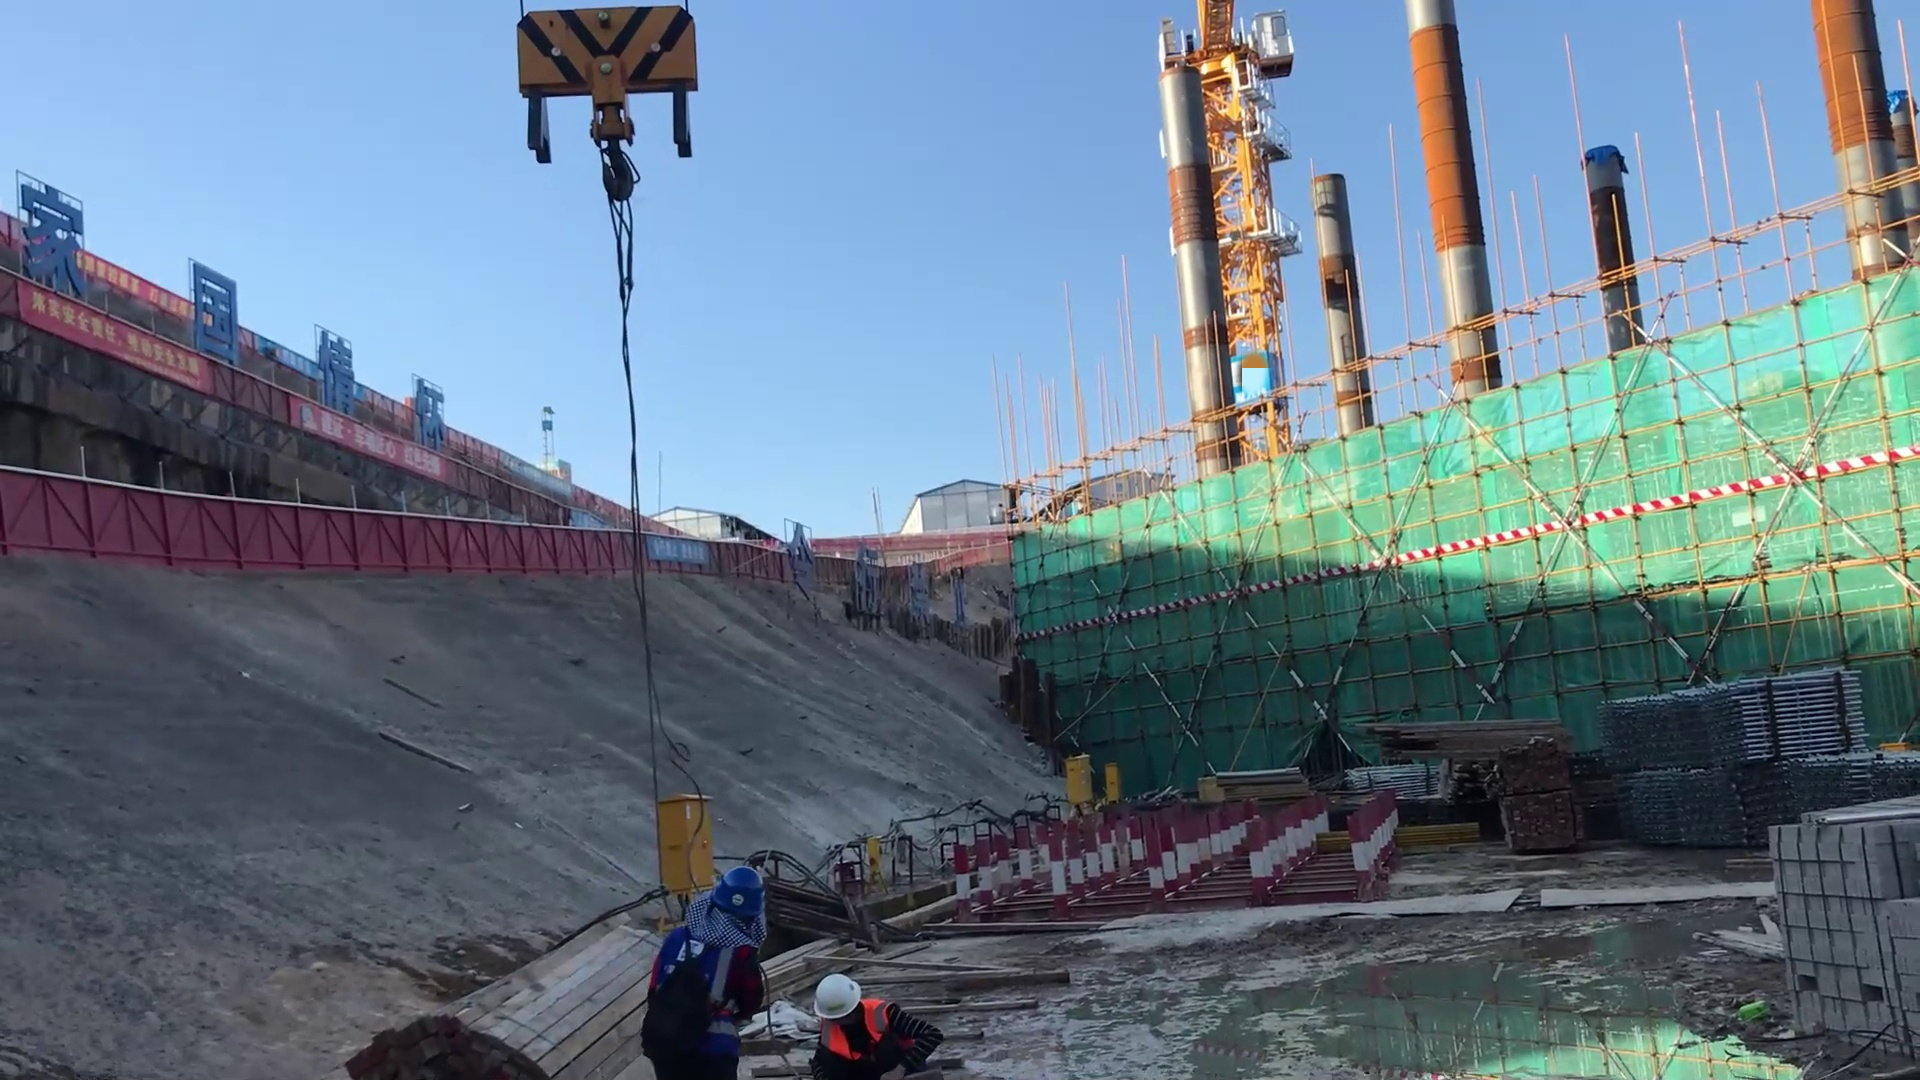brick: (1762, 818, 1920, 1024)
ebox: (625, 772, 707, 893), (1063, 761, 1092, 809), (1103, 758, 1123, 808)
fence: (6, 463, 430, 586), (430, 513, 641, 581)
helmet: (710, 860, 774, 923), (810, 965, 873, 1027)
hook: (521, 1, 703, 170)
person: (641, 856, 769, 1080), (801, 978, 957, 1080)
scaffold: (1604, 667, 1866, 761), (1625, 754, 1760, 859)
slogan: (3, 263, 223, 407)
wood: (335, 863, 636, 1080), (1349, 712, 1569, 767)
